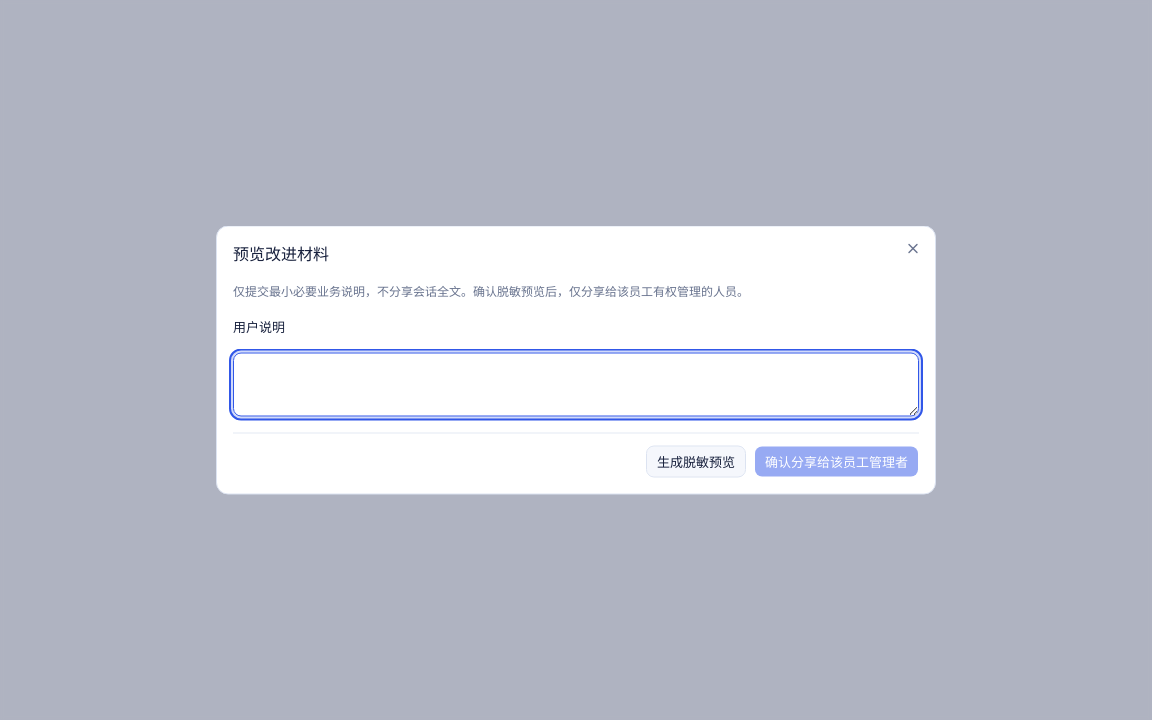
Test case: 没有员工范围时不请求全量材料，旧无来源明确缺失且不伪造执行失败
Click the button "生成脱敏预览": click(696, 462) [646,446,746,478]
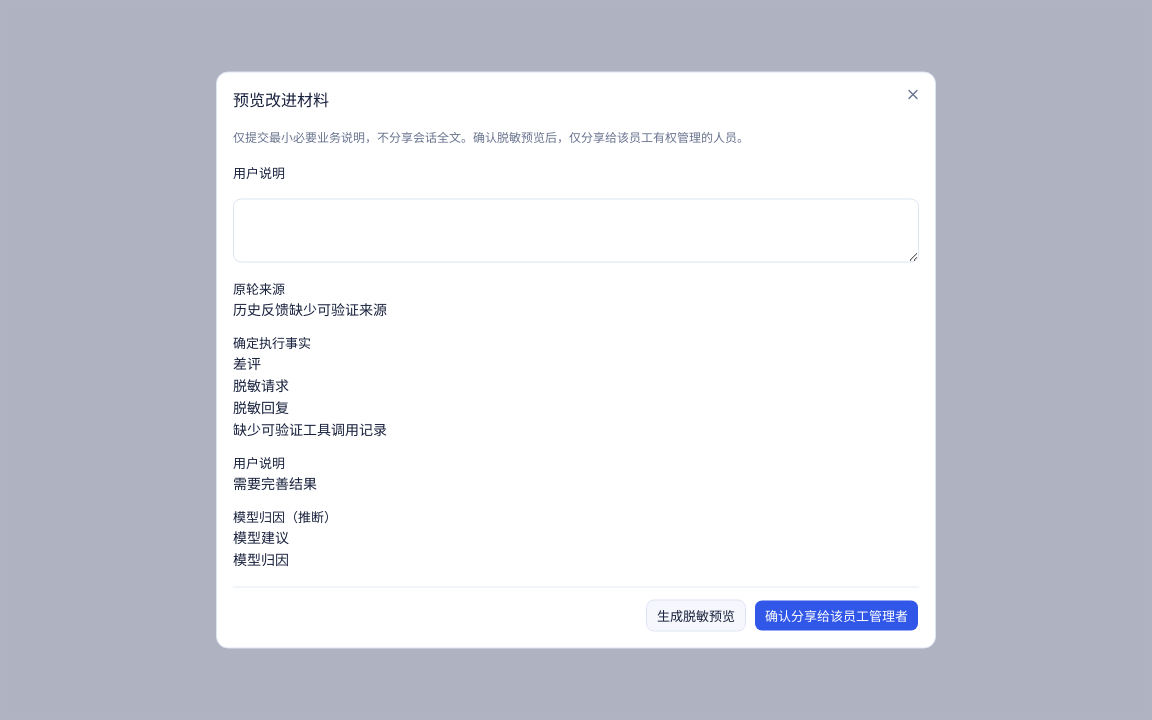
Expected: the text "历史反馈缺少可验证来源" is shown, [233,300,387,318]
Expected: the text "缺少可验证工具调用记录" is shown, [233,420,387,438]
